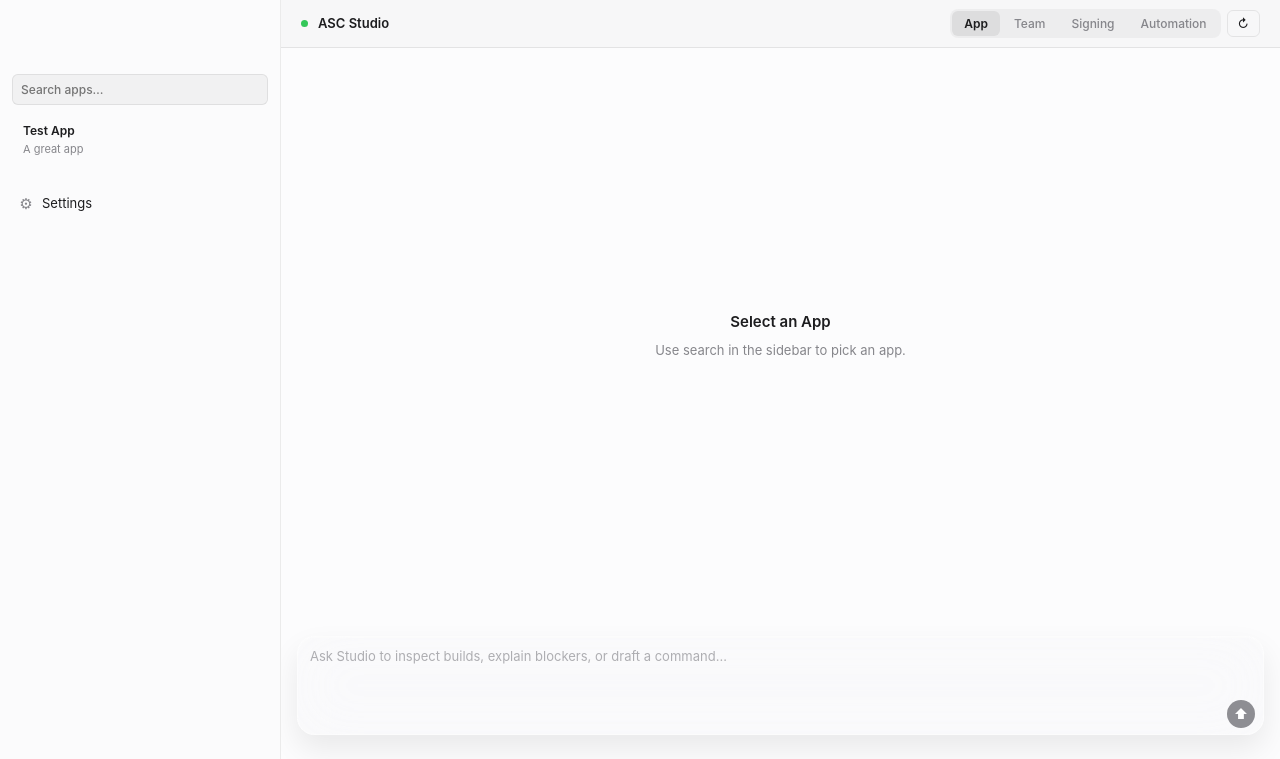
Test: App › reloads insights when refreshing the selected app on the insights view
Expected: the picture named "Connected" is shown, [301,20,308,27]
Type "Test App" into the search field labelled "Search apps". click: (140, 90)
box: [12,74,268,105]
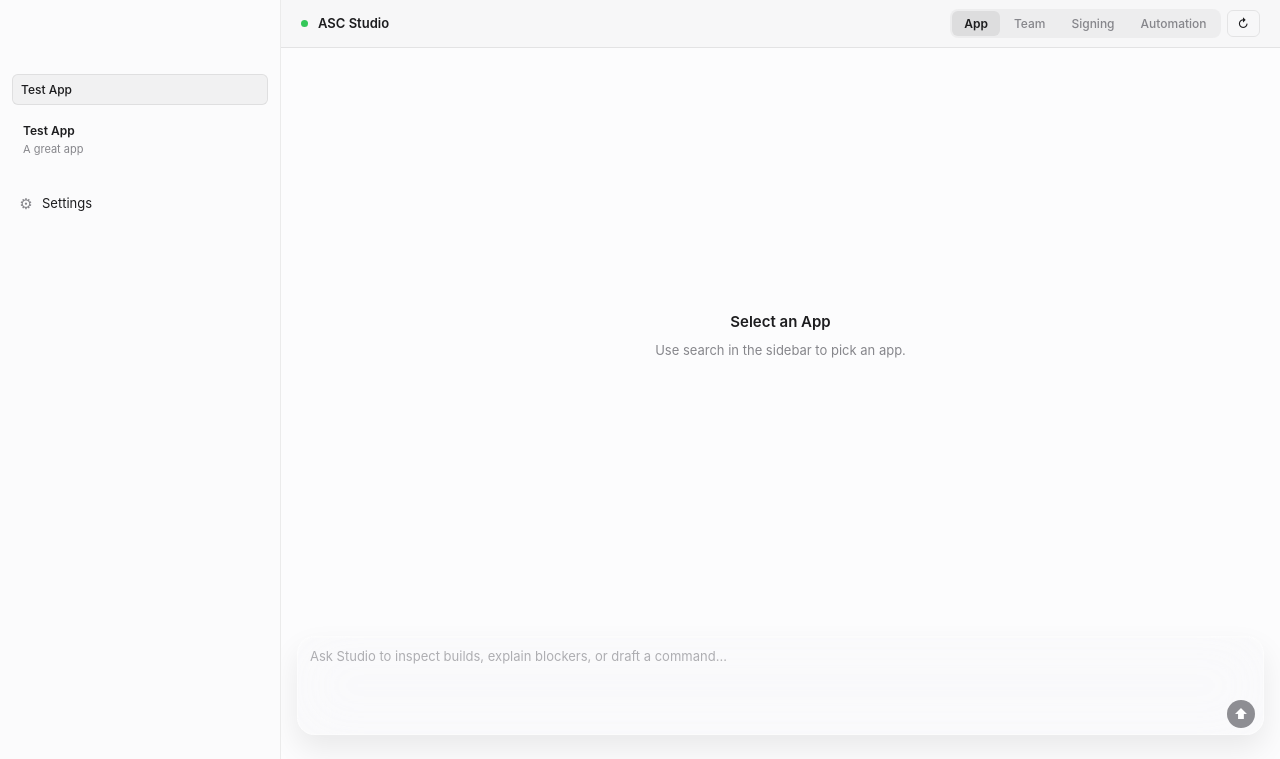
Click the option "Test App A great app". click: (140, 140)
box: [12,113,268,167]
(page scrolled)
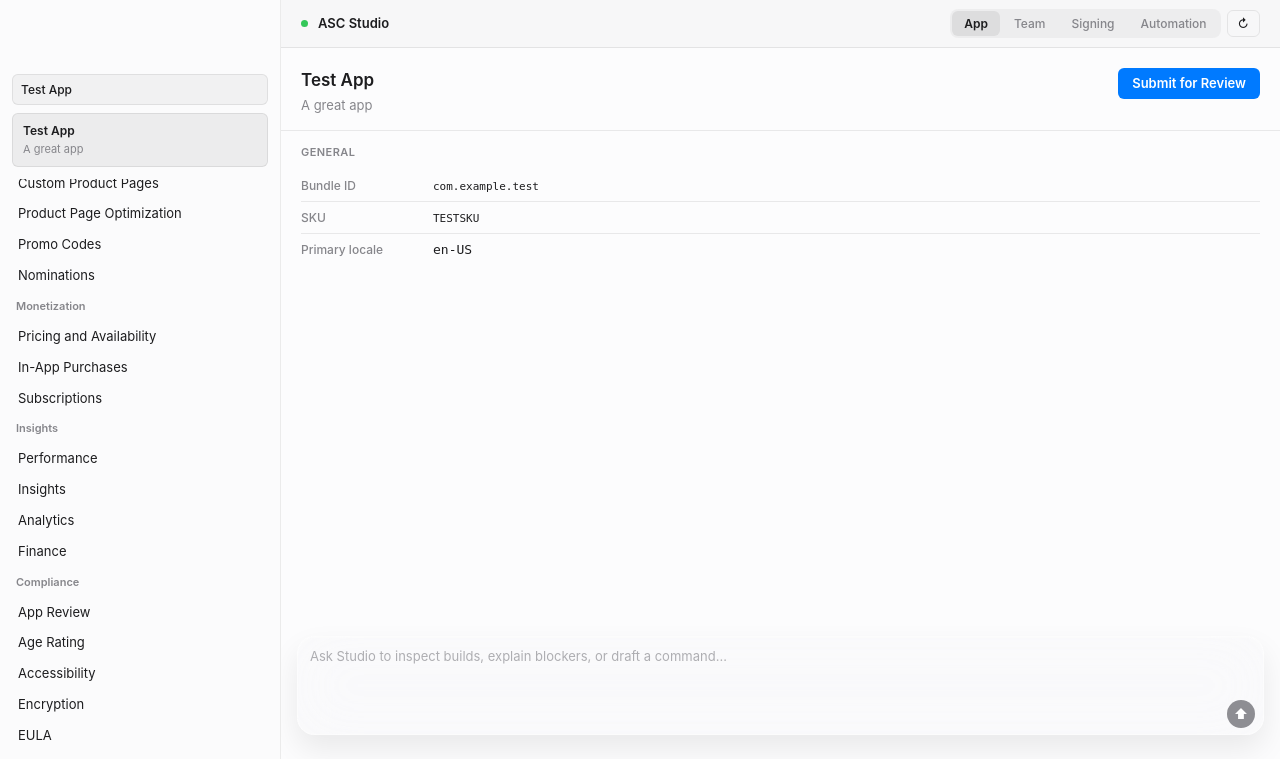
Click the button "Insights". click: (42, 489)
box: [8,474,272,505]
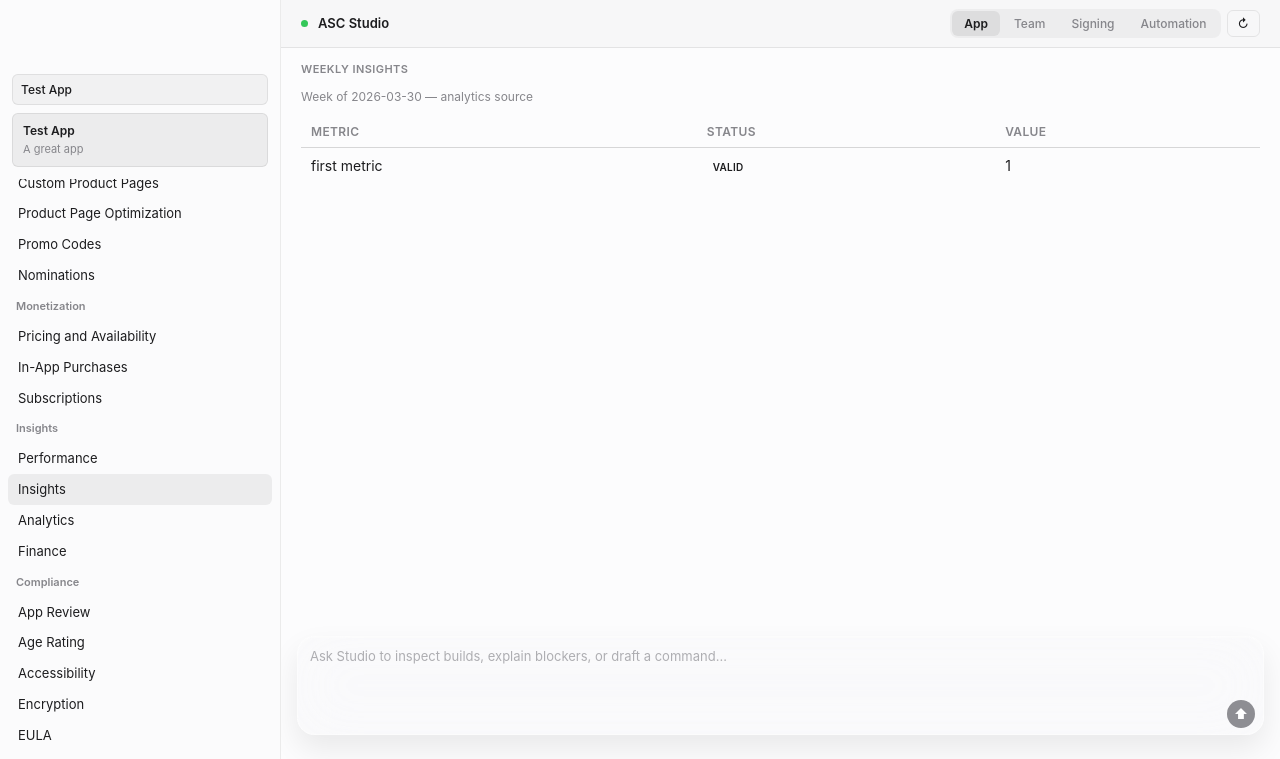
Result: the text "first metric" is shown at [301,147,697,184]
Click the button named "Refresh". click: (1243, 24)
box: [1226,10,1260,37]
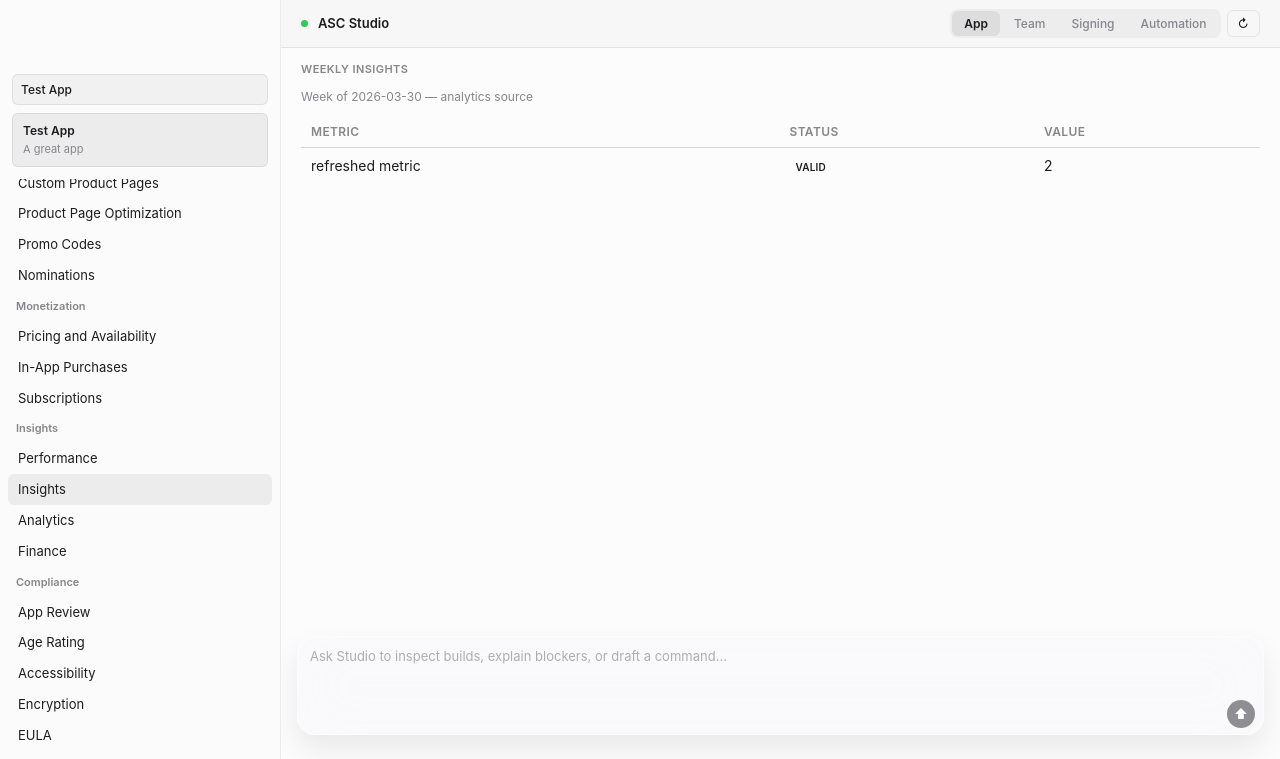
Result: the text "refreshed metric" is shown at [301,147,780,184]
